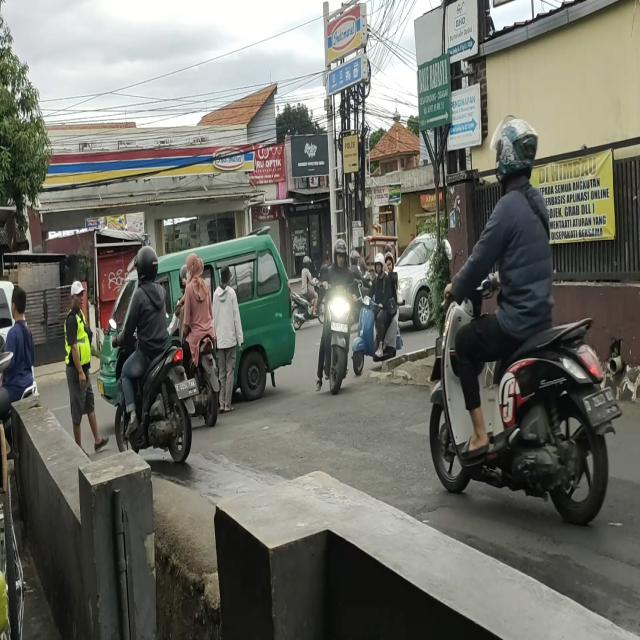helmet: (493, 122, 534, 180), (132, 246, 160, 284), (333, 238, 348, 268), (177, 263, 190, 285), (374, 252, 384, 274), (385, 251, 394, 274), (302, 254, 312, 269), (350, 252, 359, 265)
no-helmet: (9, 284, 29, 318), (186, 253, 206, 284)
